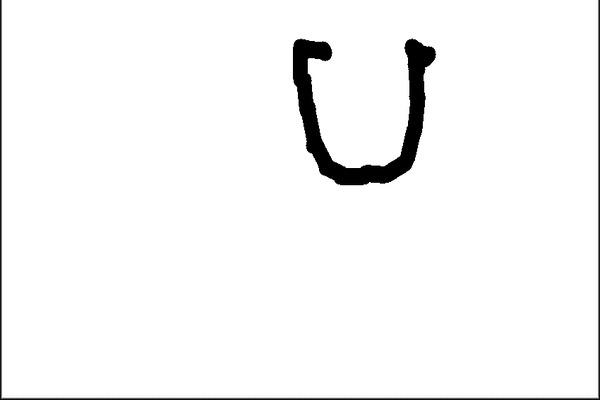U: (286, 33, 446, 193)
